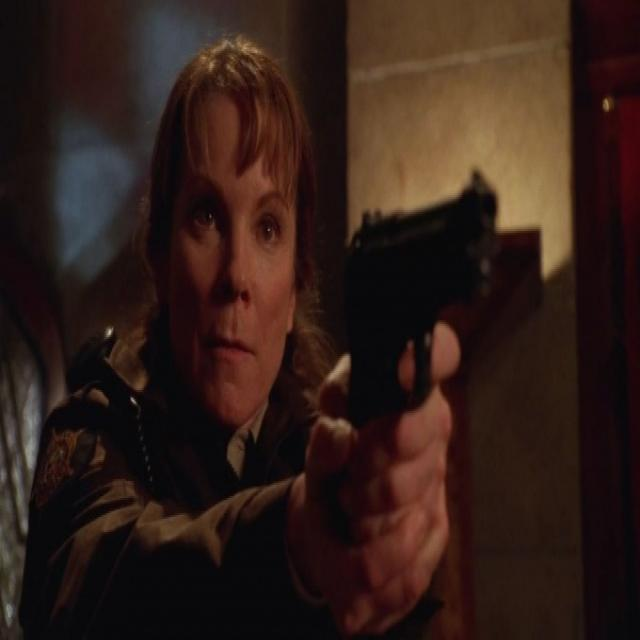weapons: (309, 150, 519, 534)
